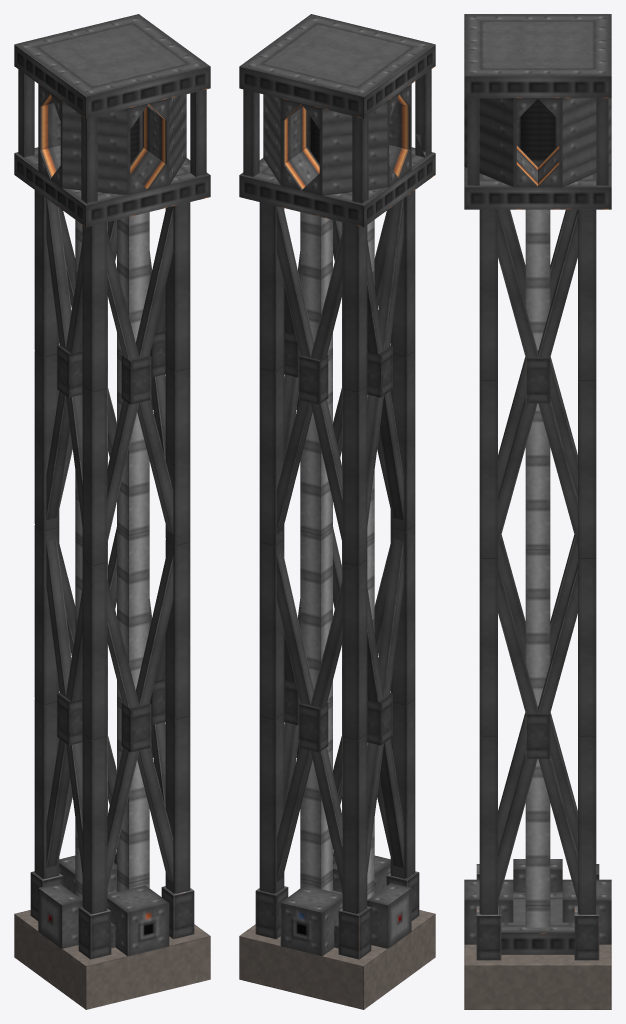
File: solar_tower.obj
3 views of the same model, side by side, from view 1: azimuth 30°, elevation 25°; view 2: azimuth 150°, elevation 25°; view 3: azimuth 270°, elevation 25° (orthographic). The views are drawn at different scales.
Parts seen in each view (by area): view 1: solar_tower; view 2: solar_tower; view 3: solar_tower.
Part boxes in pixels (bbox=[...]): solar_tower: bbox=[14, 14, 210, 1009]; solar_tower: bbox=[239, 14, 435, 1009]; solar_tower: bbox=[464, 14, 611, 1009].
Bounding box in the file's own units: 3 × 21 × 3.
